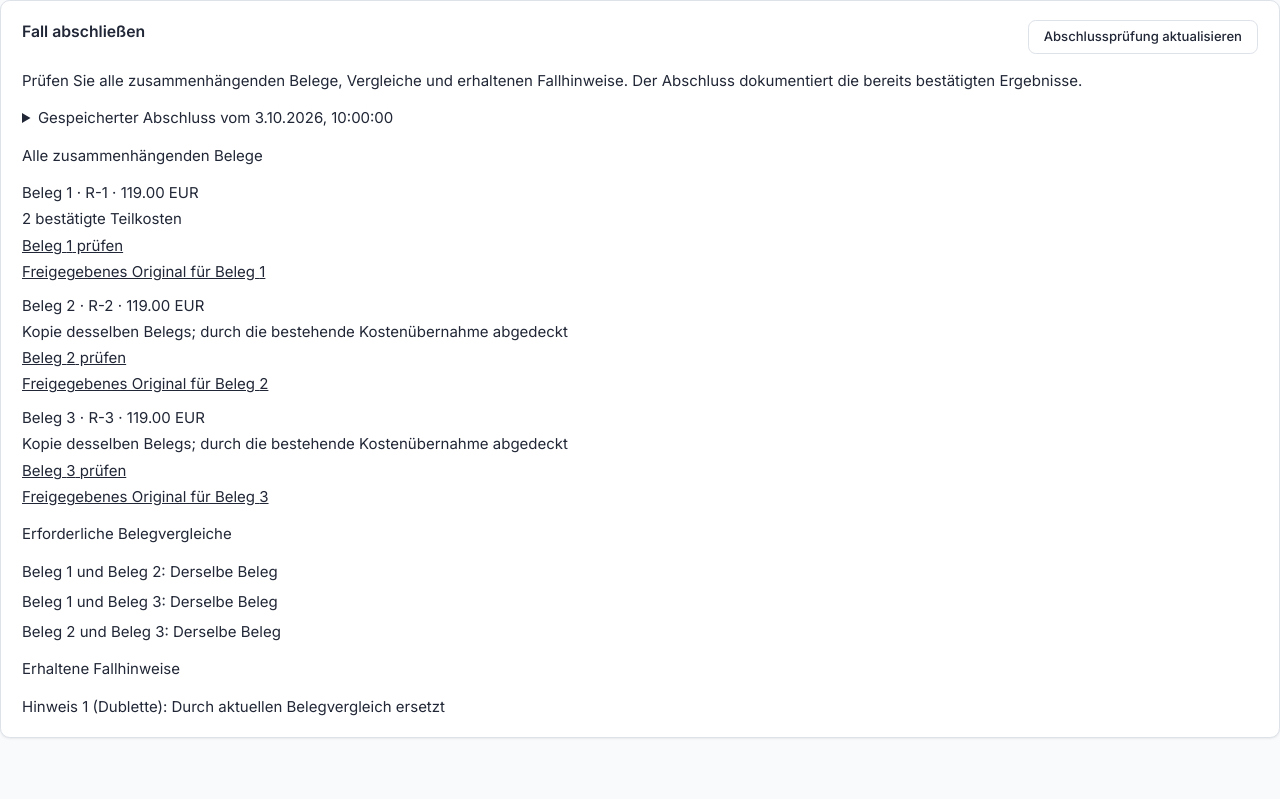
Test: refreshes effective validity independently of stale completed parent data
Expected: the button "Abschlussprüfung aktualisieren" is enabled, [1028,20,1258,54]
What coordinates should you click on to do the following:
click the heading "Gespeicherter Abschluss vom 3.10.2026, 10:00:00"
I would click on:
 (216, 118)
Its box is [38,108,393,127].
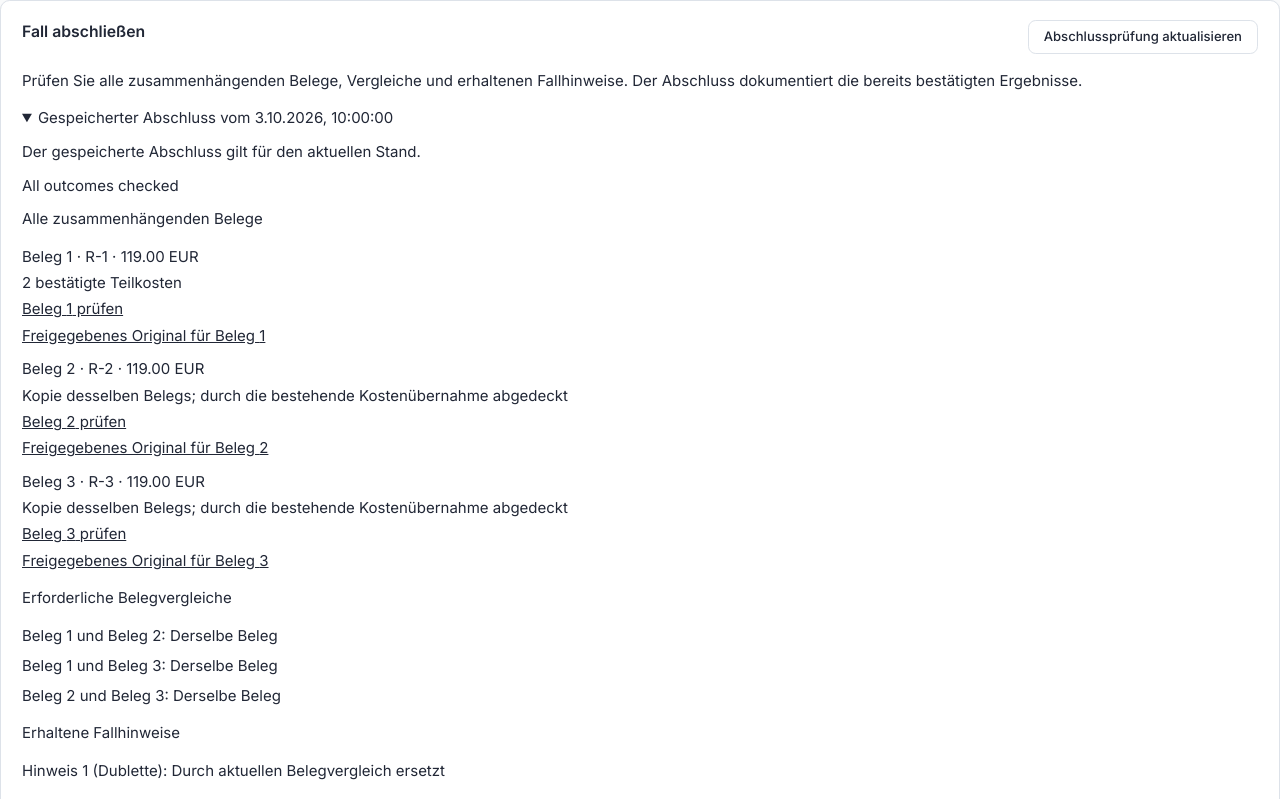
Now the text "Der gespeicherte Abschluss gilt für den aktuellen Stand." is shown, box [22,142,421,161]
What coordinates should you click on to do the following:
click the button "Abschlussprüfung aktualisieren"
I would click on:
 (1143, 37)
Its box is [1028,20,1258,54].
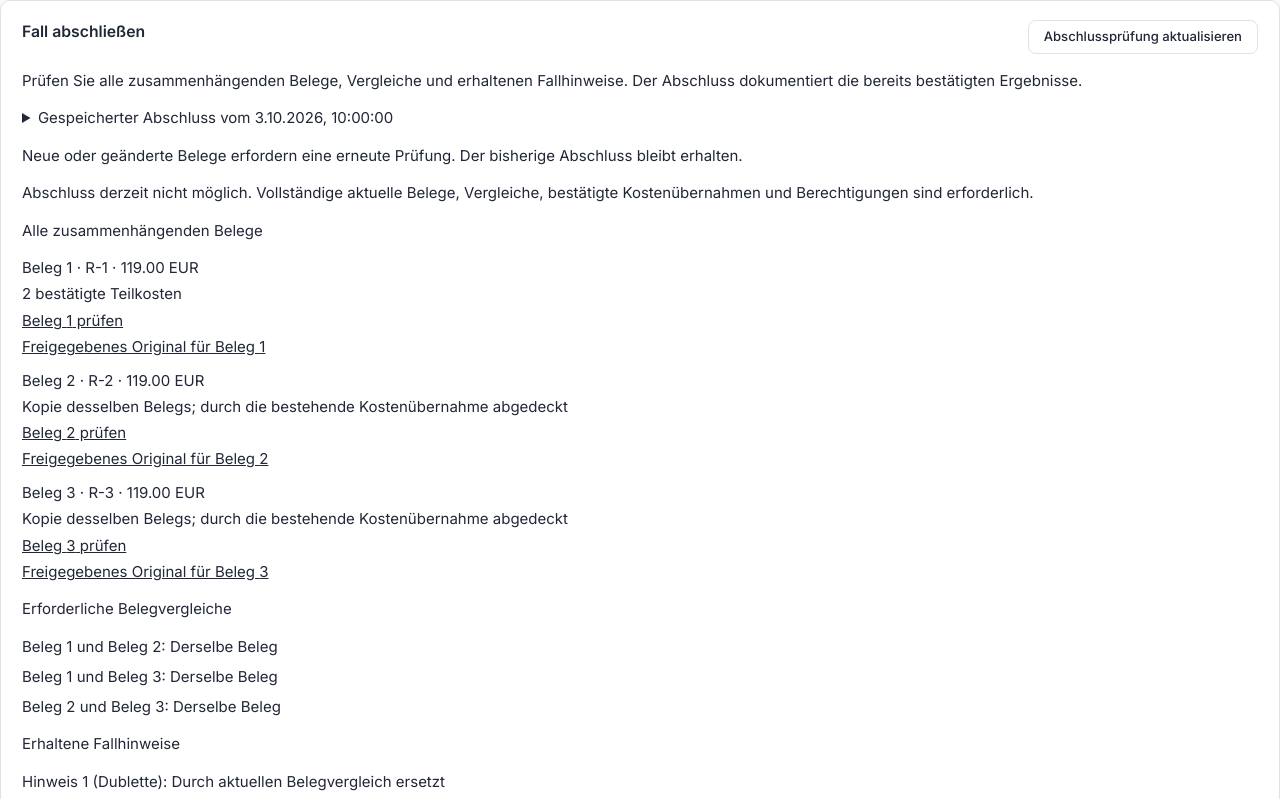
Now the text "Der gespeicherte Abschluss gilt für den aktuellen Stand." is gone
